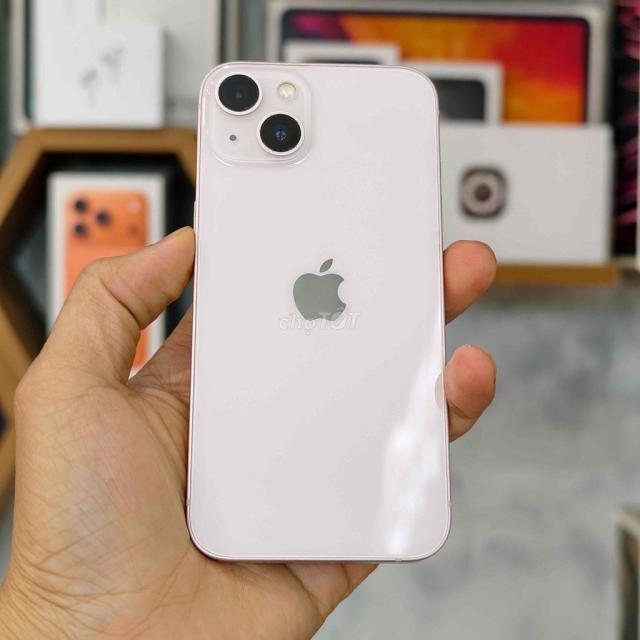gen_12_13: (190, 53, 460, 565)
